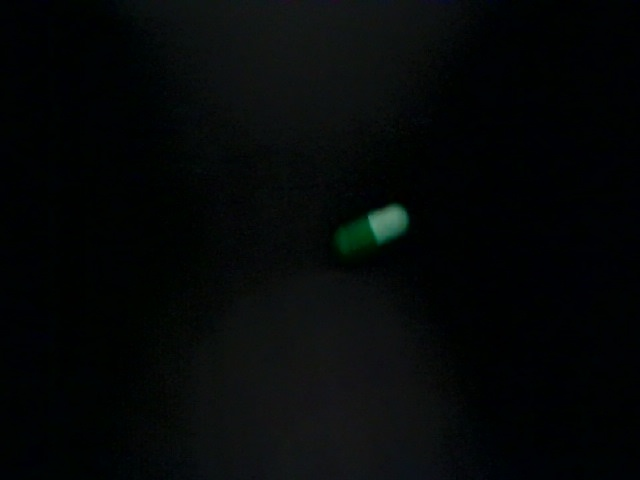YHLJ: (118, 242, 422, 346)
